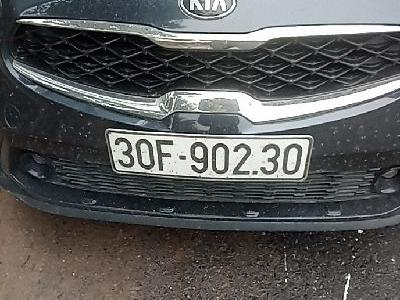car: (106, 129, 312, 186)
